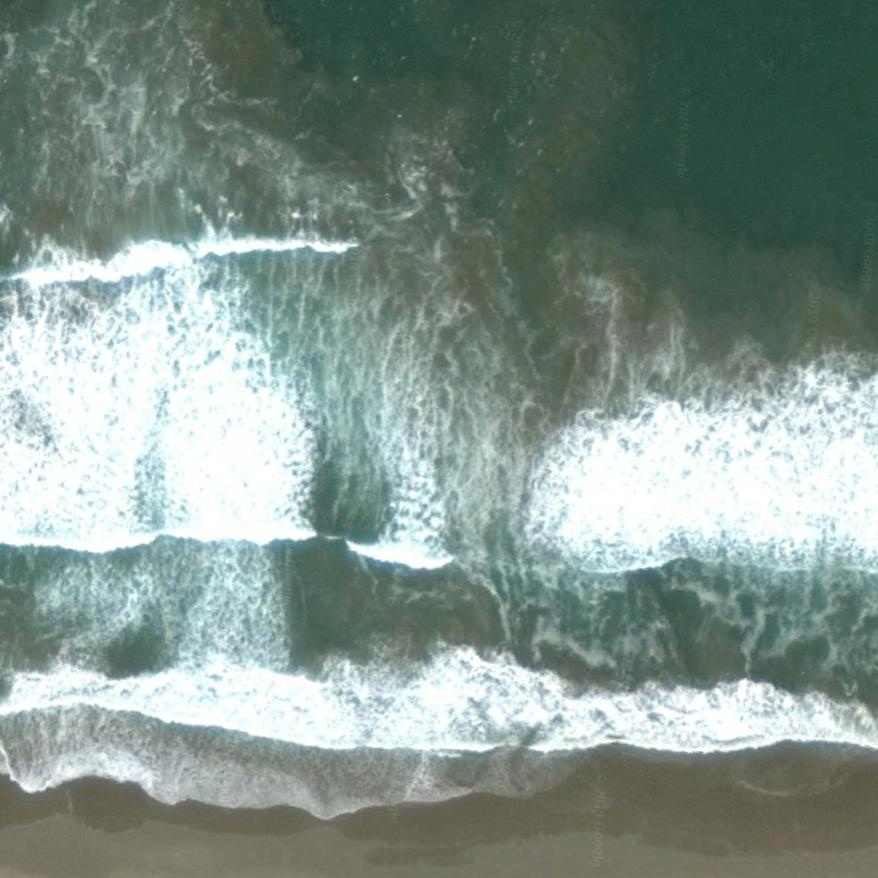rip_current: (169, 205, 651, 660)
